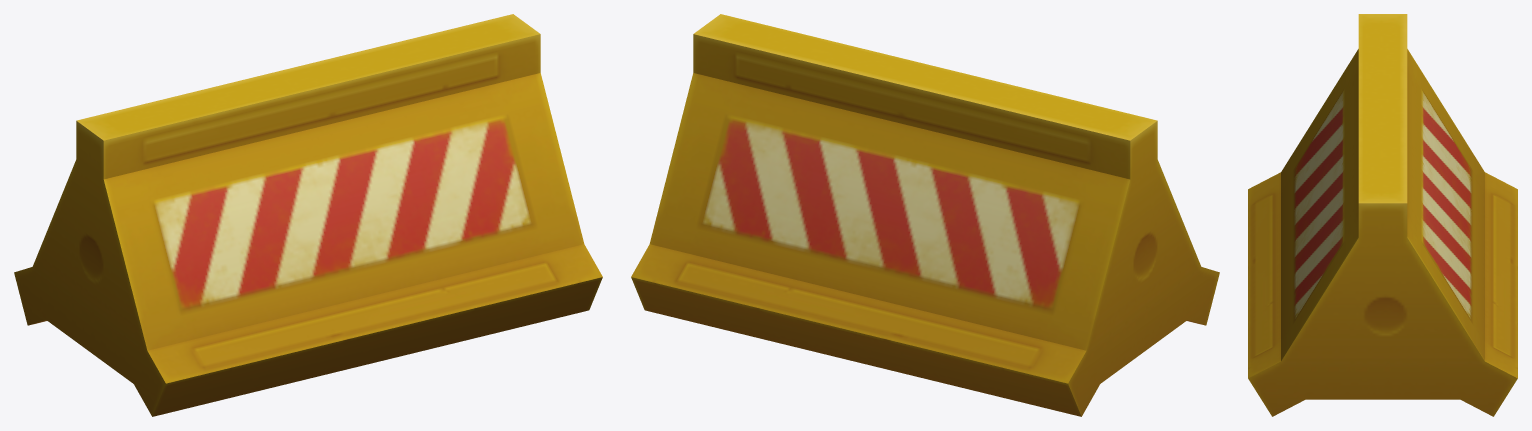
The model's file is Block.FBX.
3 views of the same model, side by side, from view 1: azimuth 30°, elevation 25°; view 2: azimuth 150°, elevation 25°; view 3: azimuth 270°, elevation 25° (orthographic). The views are drawn at different scales.
Visible parts, largest first — view 1: Block; view 2: Block; view 3: Block.
Boxes of the visible parts, <box> form: Block: <box>14,14,602,416</box>; Block: <box>631,14,1219,416</box>; Block: <box>1248,14,1517,416</box>.
Size of the model in its own units: 200 by 105 by 120.
